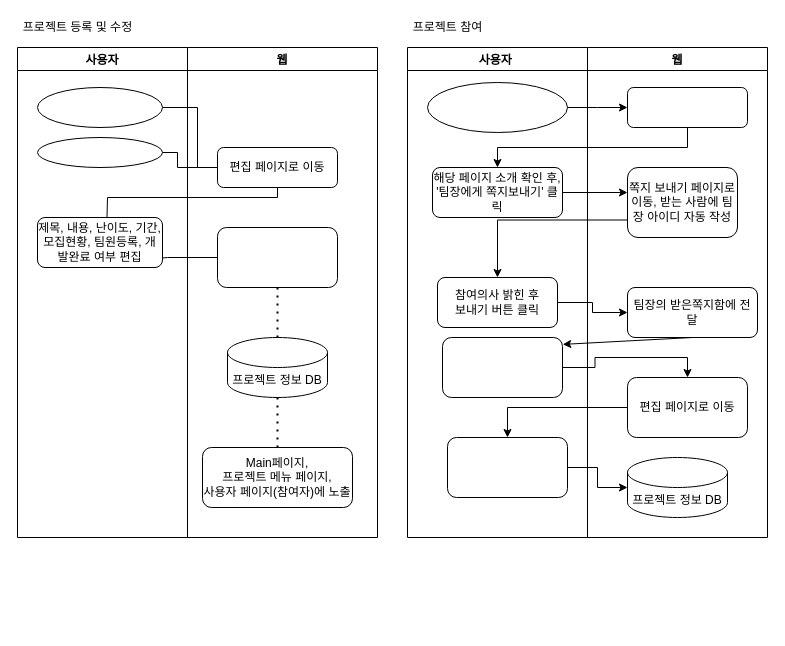
This 785x646 diagram has some shape labels left out. Here are the shapes that lost their labels. From the top down, the box of each, then its label:
(36, 86, 162, 128): 프로젝트 등록 버튼 클릭
(426, 82, 568, 132): 원하는 프로젝트 페이지 클릭
(626, 86, 748, 128): 해당 프로젝트 페이지로 이동
(36, 136, 162, 168): 프로젝트 수정 버튼 클릭
(216, 226, 338, 288): project id, 생성일자 포함한 프로젝트 정보 DB에 저장
(442, 336, 562, 398): 팀장 확인 후, 프로젝트 수정 클릭
(446, 436, 568, 498): 팀원 추가 후 편집 완료
